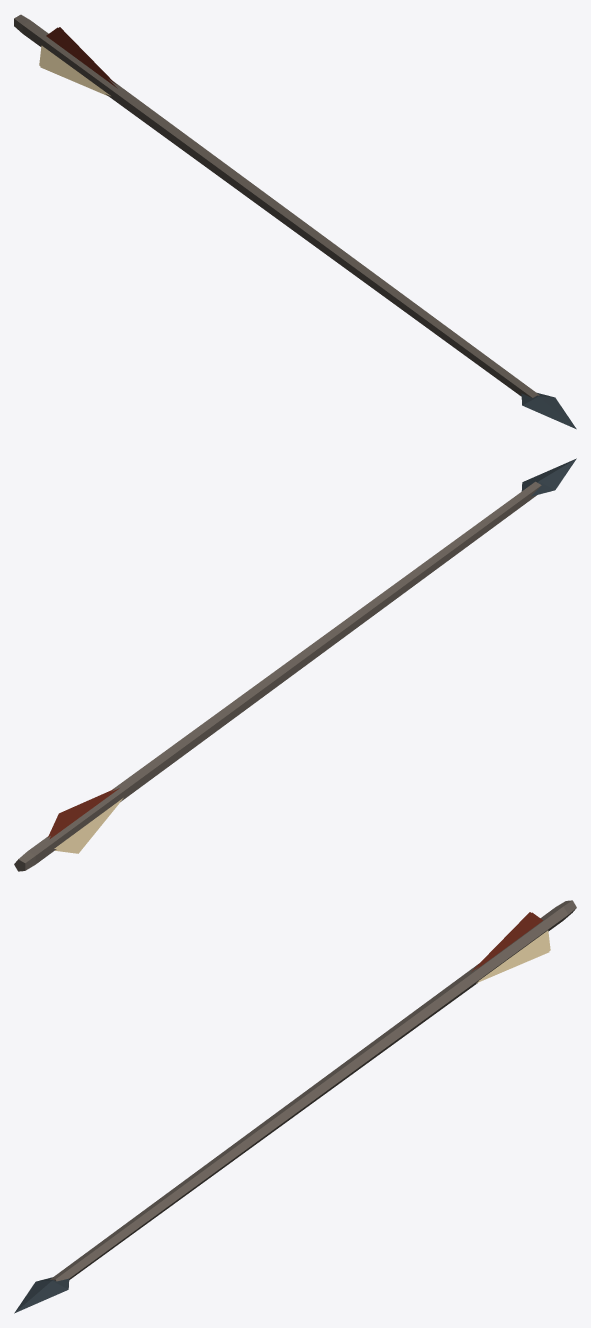
The model's file is arrow.glb.
3 views of the same model, one above another, from view 1: azimuth 30°, elevation 25°; view 2: azimuth 150°, elevation 25°; view 3: azimuth 330°, elevation 25° (orthographic).
Visible parts, largest first — view 1: arrow; view 2: arrow; view 3: arrow.
Boxes of the visible parts, <box> form: arrow: <box>14,14,576,429</box>; arrow: <box>14,458,576,871</box>; arrow: <box>14,900,576,1313</box>.
Bounding box in the file's own units: 0.0285 × 0.0247 × 0.7.
